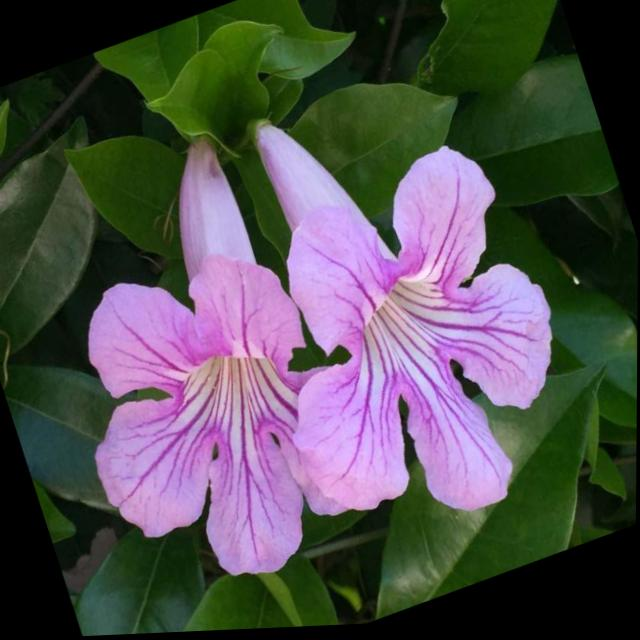Flower: (205, 55, 610, 582), (11, 110, 405, 628)
